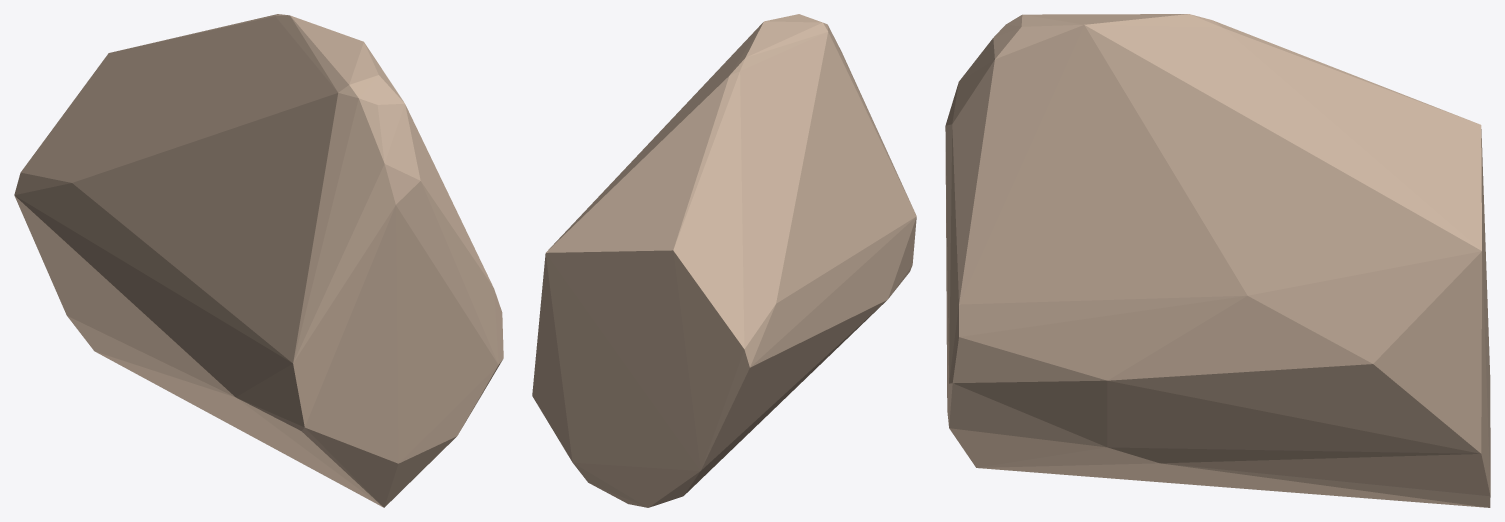
Rendered from kitchenware_kettle_n01.glb.
3 views of the same model, side by side, from view 1: azimuth 30°, elevation 25°; view 2: azimuth 150°, elevation 25°; view 3: azimuth 270°, elevation 25° (orthographic). The views are drawn at different scales.
Visible parts, largest first — view 1: geometry_0; view 2: geometry_0; view 3: geometry_0.
Part boxes in pixels (x1,y1,x2,y2): geometry_0: (14,14,503,507); geometry_0: (532,14,916,507); geometry_0: (945,14,1490,507).
Bounding box in the file's own units: 0.3056 × 0.4593 × 0.4664.
